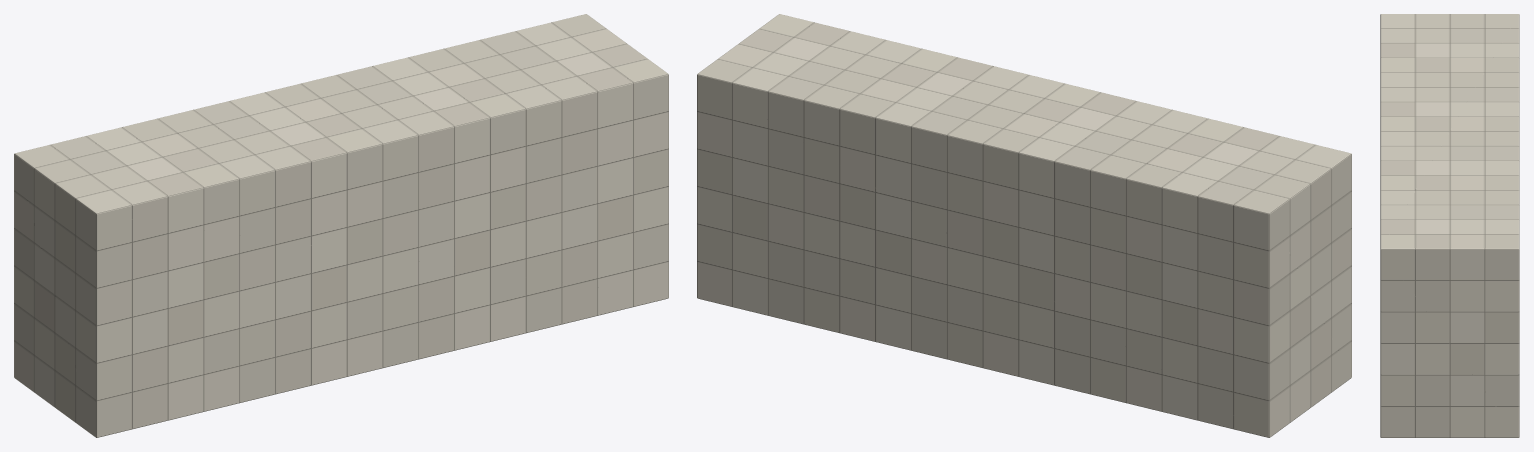
File: MOD_25_PoolEdge_WideLedge.glb
3 renders of one model, left to right at view 1: azimuth 30°, elevation 25°; view 2: azimuth 150°, elevation 25°; view 3: azimuth 270°, elevation 25°, orthographic. The views are drawn at different scales.
Parts seen in each view (by area): view 1: MOD_25_PoolEdge_WideLedge_Export; view 2: MOD_25_PoolEdge_WideLedge_Export; view 3: MOD_25_PoolEdge_WideLedge_Export.
Boxes of the visible parts, left/top/right/bottom form: MOD_25_PoolEdge_WideLedge_Export: left=14, top=14, right=668, bottom=437; MOD_25_PoolEdge_WideLedge_Export: left=697, top=14, right=1351, bottom=437; MOD_25_PoolEdge_WideLedge_Export: left=1380, top=14, right=1519, bottom=437.
Bounding box in the file's own units: 4 × 1.5 × 1.
1 material, 1 textured.
